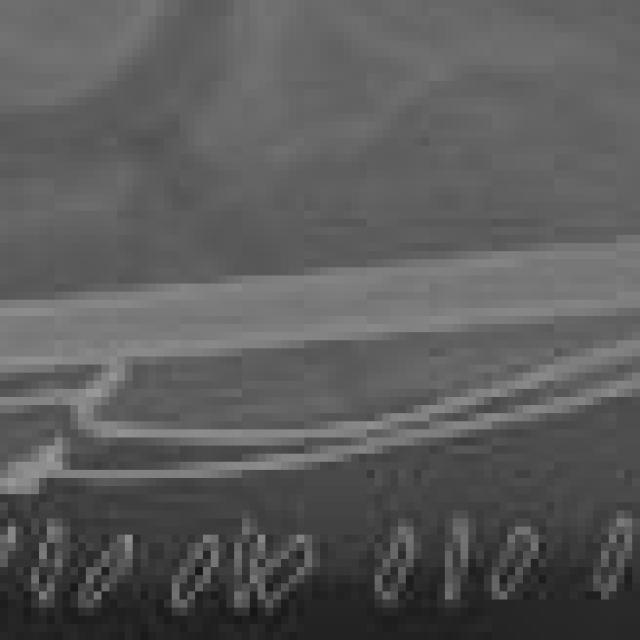fracture: (3, 1, 640, 640)
